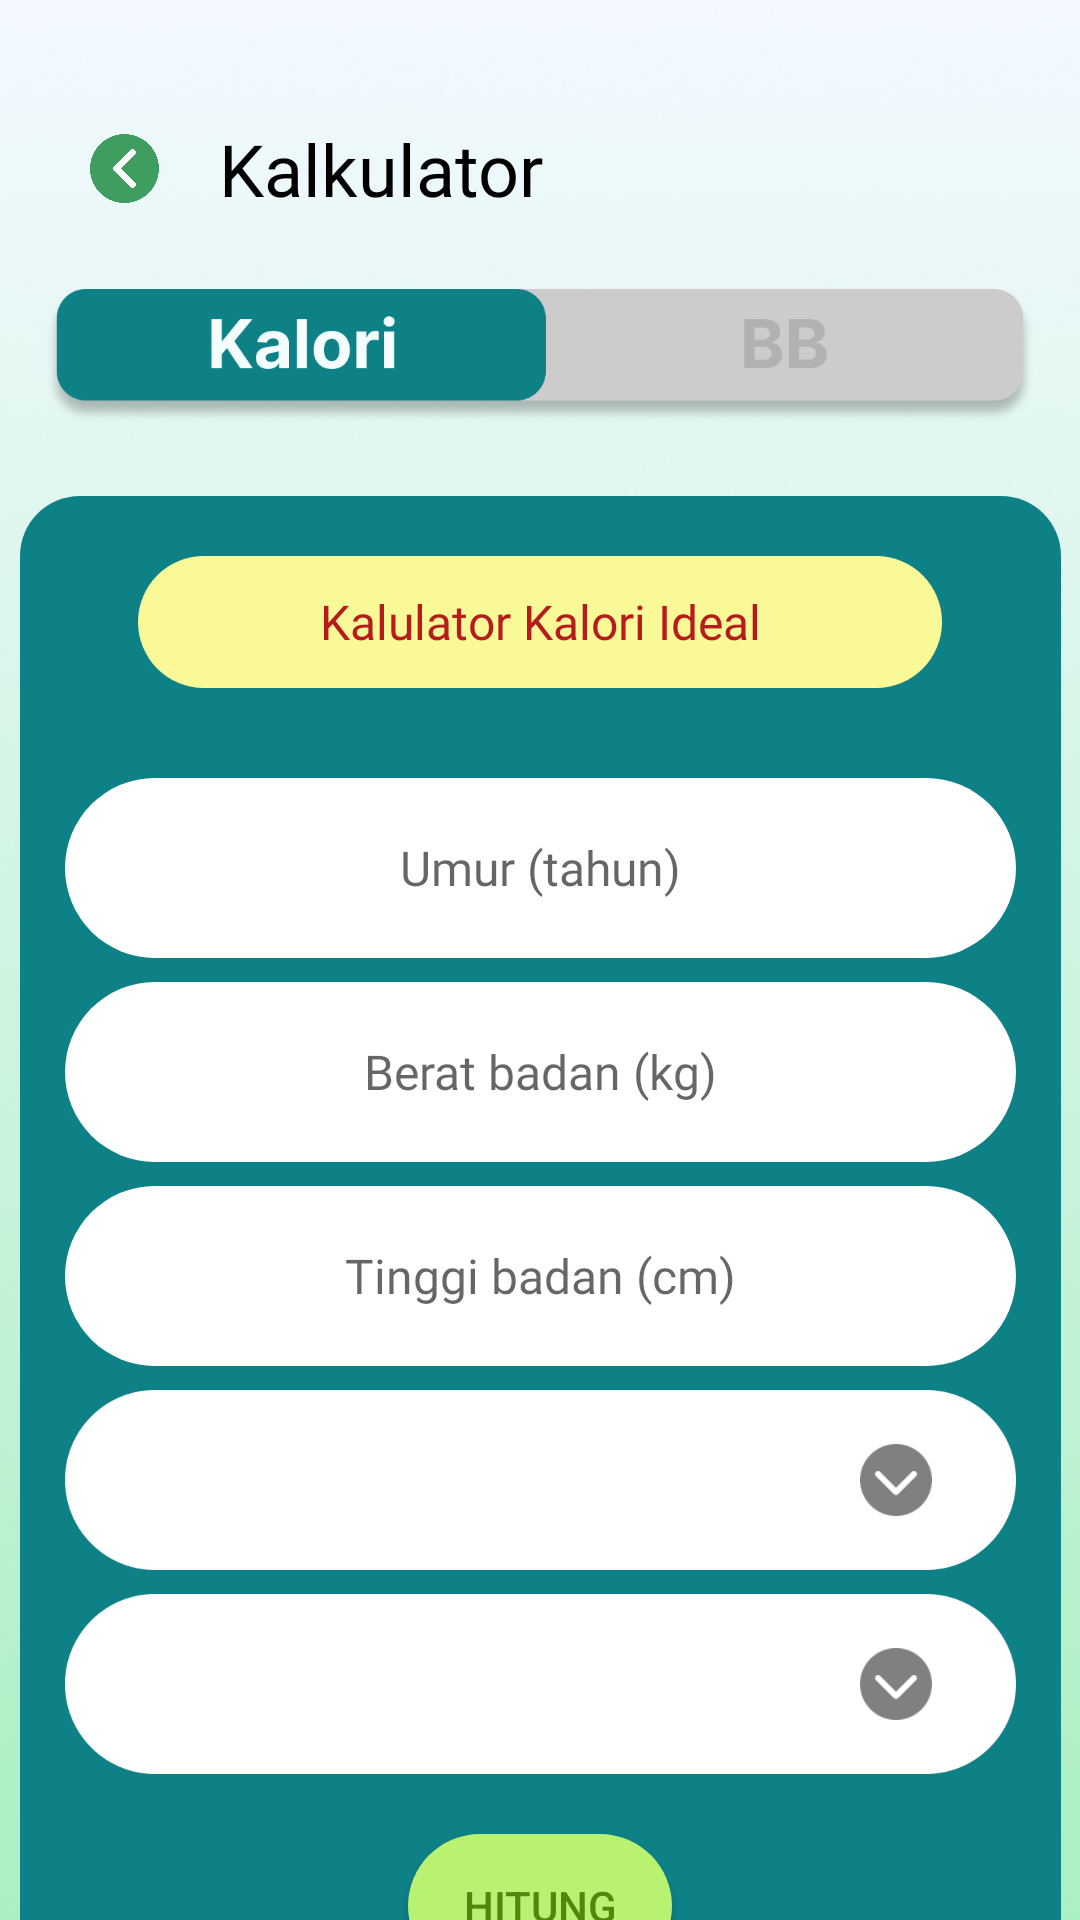

Point at icon controls on the screen. Image size 1080×1920, points as (x=x, y=y).
back: (x=124, y=168)
